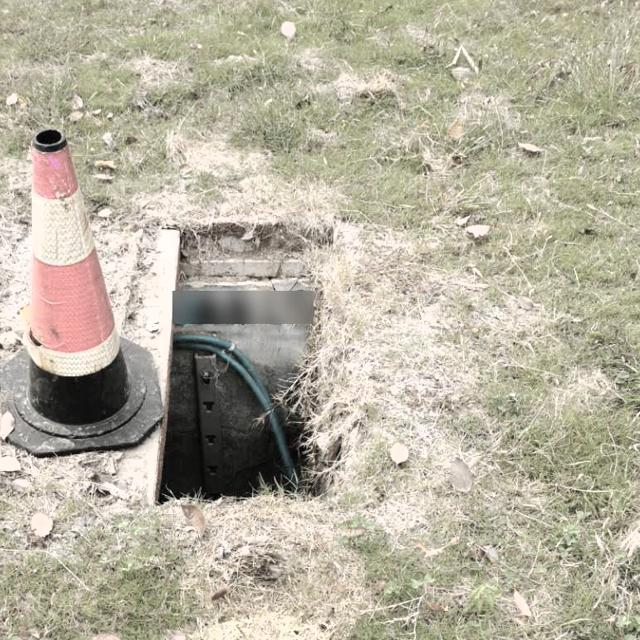lose: (144, 215, 334, 507)
